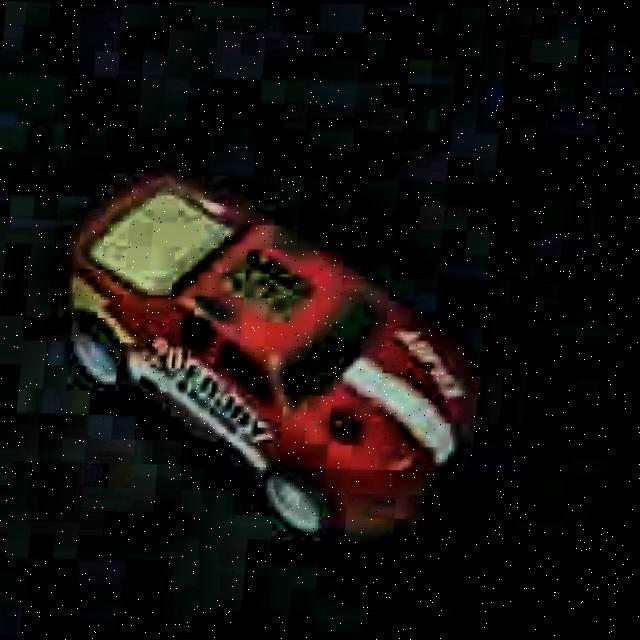car: (39, 165, 497, 551)
